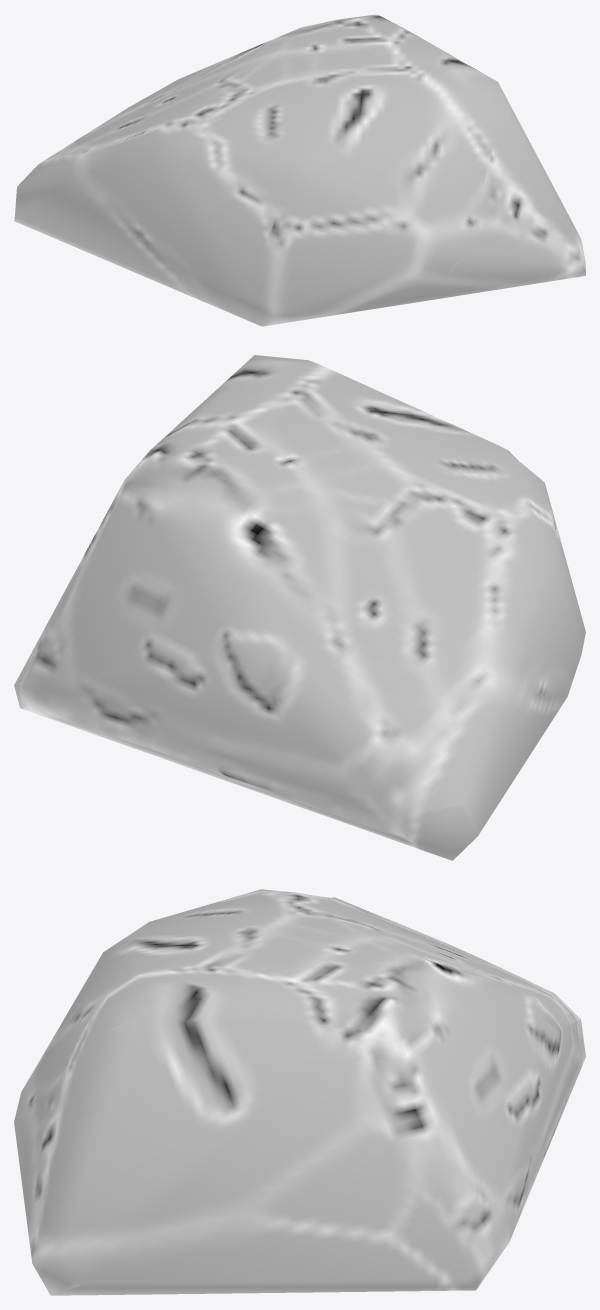
File: rock_medium_1.glb
3 views of the same model, one above another, from view 1: azimuth 30°, elevation 25°; view 2: azimuth 150°, elevation 25°; view 3: azimuth 270°, elevation 25° (orthographic). The views are drawn at different scales.
Parts seen in each view (by area): view 1: rock_medium_1_prop-col; view 2: rock_medium_1_prop-col; view 3: rock_medium_1_prop-col.
Part boxes in pixels (<box>): rock_medium_1_prop-col: <box>14,14,585,326</box>; rock_medium_1_prop-col: <box>14,355,585,860</box>; rock_medium_1_prop-col: <box>14,889,585,1295</box>.
Size of the model in its own units: 1.75 by 0.8376 by 1.7.
1 material, 1 textured.
